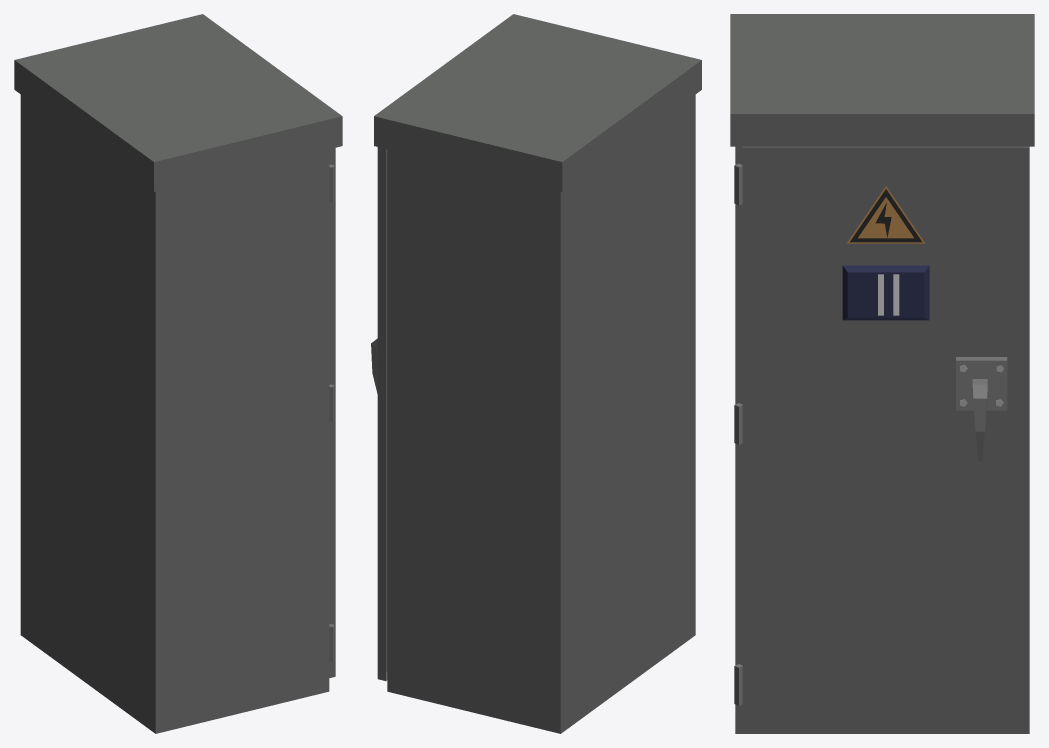
The model's file is SM_metal_box_3.gltf.
3 renders of one model, left to right at view 1: azimuth 30°, elevation 25°; view 2: azimuth 150°, elevation 25°; view 3: azimuth 270°, elevation 25°, orthographic. The views are drawn at different scales.
Parts seen in each view (by area): view 1: SM_metal_box_3; view 2: SM_metal_box_3; view 3: SM_metal_box_3.
Part boxes in pixels (x1,y1,x2,y2): SM_metal_box_3: [14, 14, 342, 733]; SM_metal_box_3: [371, 14, 701, 733]; SM_metal_box_3: [730, 14, 1034, 733].
Bounding box in the file's own units: 0.4983 × 1.28 × 0.5657.
1 material, 1 textured.
